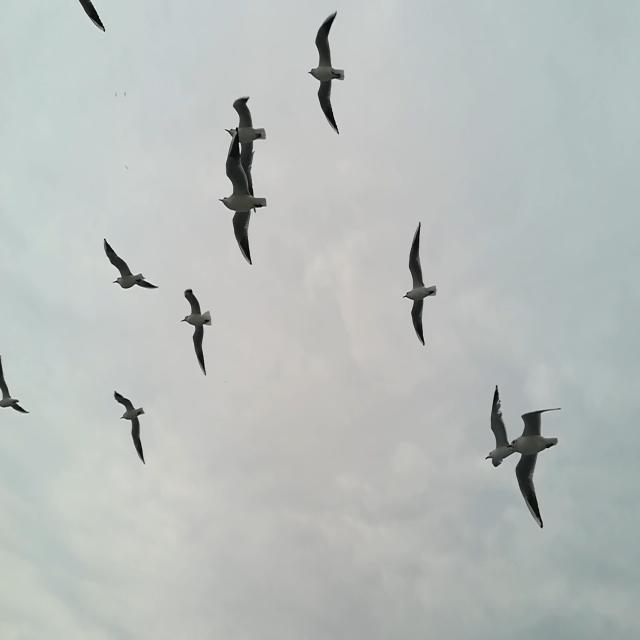bird: (506, 406, 562, 530), (217, 127, 267, 265), (224, 95, 267, 213), (308, 11, 344, 138), (403, 221, 438, 345), (485, 383, 520, 471), (103, 238, 160, 290), (180, 286, 212, 373), (114, 390, 146, 465), (1, 348, 31, 416), (75, 0, 106, 32), (124, 163, 130, 171), (123, 90, 127, 98), (115, 91, 118, 99)
